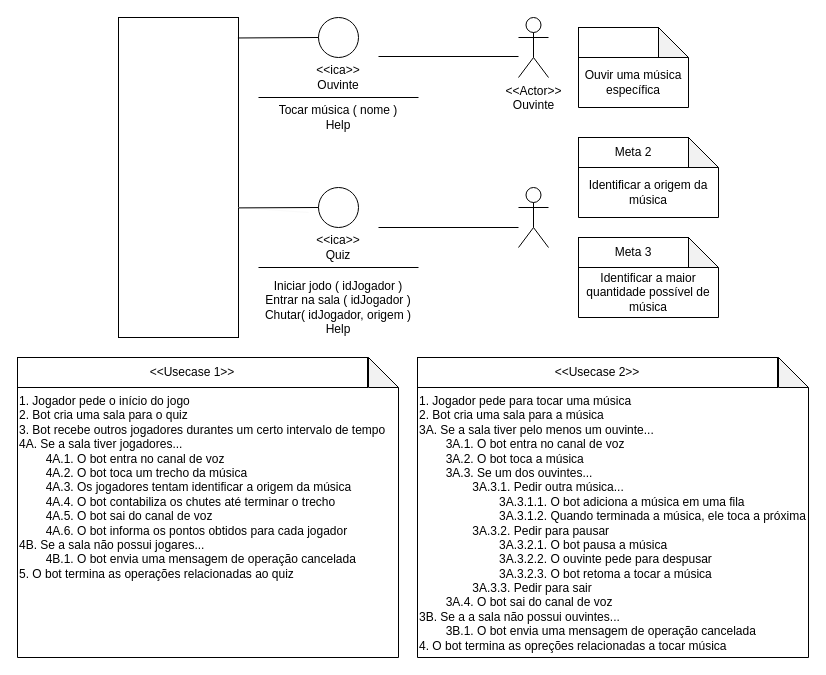
Image size: 826x675. Some labels were removed from this diagram. The centre of each missing label's shape, as x and y in pixels:
"<<Actor>> Jogador" goes at point (533, 217).
"<<System>> bot" goes at point (178, 177).
"Meta 1" goes at point (618, 42).
